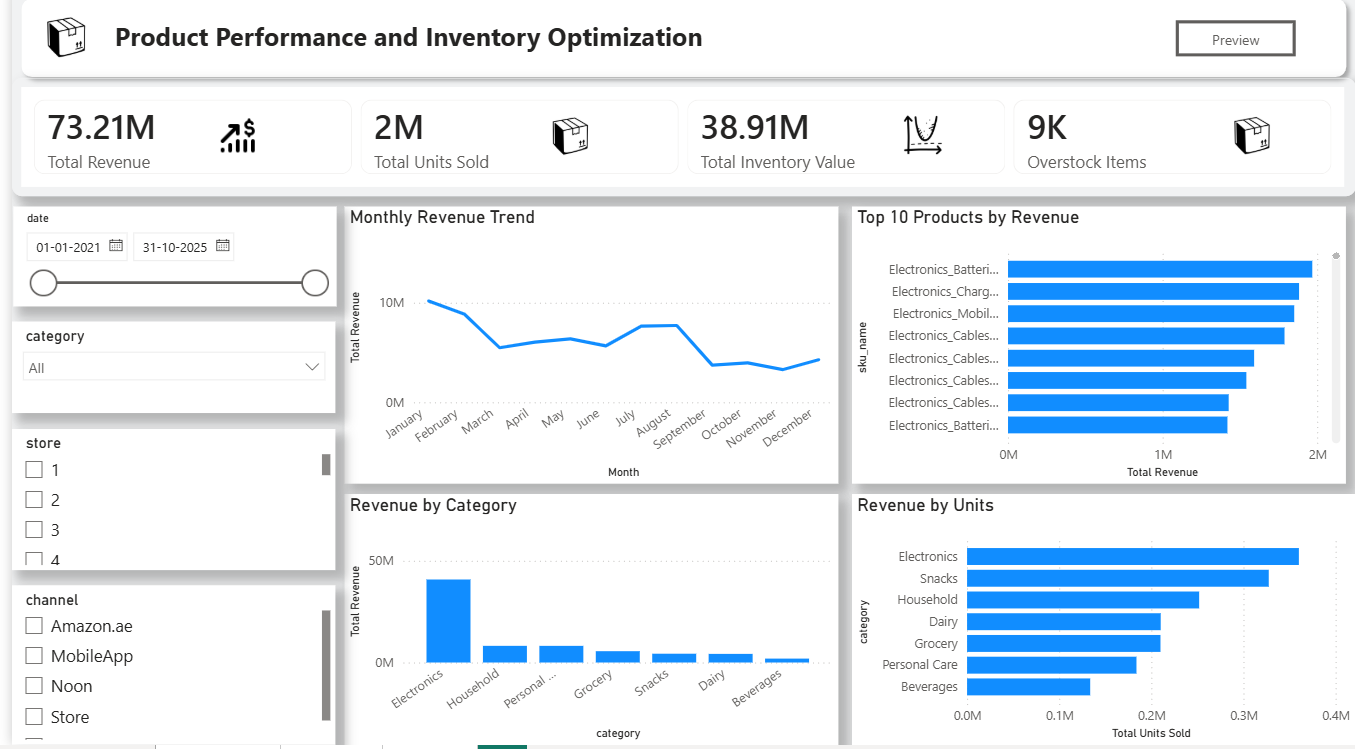

The dashboard page shown, as its layout file describes it:
{"tool":"powerbi","page":{"name":"Dashboard","canvas":[1280,720],"ordinal":0},"visuals":[{"type":"shape","box":[0,0,1279.8,92.9],"z":0},{"type":"image","box":[19,22.6,64.3,46.4],"z":1000},{"type":"textbox","box":[92.9,23.8,601.2,45.2],"z":2000},{"type":"cardVisual","fields":{"Data":["bm_sales_cleaned.Total Revenue","bm_sales_cleaned.Total Units Sold","bm_inventory_cleaned.Total Inventory Value","bm_inventory_cleaned.Overstock Items"]},"box":[0,84.5,1279.8,113.1],"z":3000},{"type":"image","box":[175,117.9,79.8,42.9],"z":4000},{"type":"image","box":[509.5,116.7,42.9,46.4],"z":5000},{"type":"image","box":[825,116.7,83.3,44],"z":6000},{"type":"image","box":[1150,117.9,60.7,42.9],"z":7000},{"type":"lineChart","title":"Monthly Revenue Trend","fields":{"Category":["bm_sales_cleaned.date.Variation.Date Hierarchy.Month"],"Y":["bm_sales_cleaned.Total Revenue"]},"box":[316.7,207.1,470.2,264.3],"z":8000},{"type":"clusteredColumnChart","title":"Revenue by Category","fields":{"Y":["bm_sales_cleaned.Total Revenue"],"Category":["bm_skus_cleaned.category"]},"box":[316.7,481,470.2,239.3],"z":9000},{"type":"clusteredBarChart","title":"Top 10 Products by Revenue","fields":{"Y":["bm_sales_cleaned.Total Revenue"],"Category":["bm_skus_cleaned.sku_name"]},"box":[800,207.1,470.2,264.3],"z":10000},{"type":"slicer","title":"Date","fields":{"Values":["bm_sales_cleaned.date"]},"box":[1.2,207.1,308.3,95.2],"z":12000},{"type":"slicer","title":"Date","fields":{"Values":["bm_skus_cleaned.category"]},"box":[0,316.7,308.3,86.9],"z":13000},{"type":"slicer","title":"Date","fields":{"Values":["bm_stores_cleaned.store_id"]},"box":[0,419,308.3,134.5],"z":14000},{"type":"slicer","title":"Date","fields":{"Values":["bm_sales_cleaned.channel"]},"box":[0,567.9,308.3,152.4],"z":15000},{"type":"actionButton","box":[1108.3,29.8,114.3,34.5],"z":16000},{"type":"clusteredBarChart","title":"Revenue by Units","fields":{"Category":["bm_skus_cleaned.category"],"Y":["bm_sales_cleaned.Total Units Sold"]},"box":[800,481,479.8,239.3],"z":16001}]}

Visuals, with their boxes in screenshot pixels (x1, y1, x2, y2), scaled from the page's 1280x720 canvas onto the 1355x749 screenshot:
shape: crop(0, 0, 1354, 97)
image: crop(20, 24, 88, 72)
textbox: crop(98, 25, 735, 72)
cardVisual - bm_sales_cleaned.Total Revenue x bm_sales_cleaned.Total Units Sold: crop(0, 88, 1354, 206)
image: crop(185, 123, 270, 167)
image: crop(539, 121, 585, 170)
image: crop(873, 121, 962, 167)
image: crop(1217, 123, 1282, 167)
"Monthly Revenue Trend" lineChart: crop(335, 215, 833, 490)
"Revenue by Category" clusteredColumnChart: crop(335, 500, 833, 748)
"Top 10 Products by Revenue" clusteredBarChart: crop(847, 215, 1345, 490)
"Date" slicer: crop(1, 215, 328, 314)
"Date" slicer: crop(0, 329, 326, 420)
"Date" slicer: crop(0, 436, 326, 576)
"Date" slicer: crop(0, 591, 326, 748)
actionButton: crop(1173, 31, 1294, 67)
"Revenue by Units" clusteredBarChart: crop(847, 500, 1354, 748)
